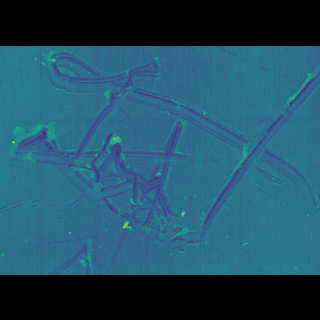Loch: (7, 82, 319, 243)
